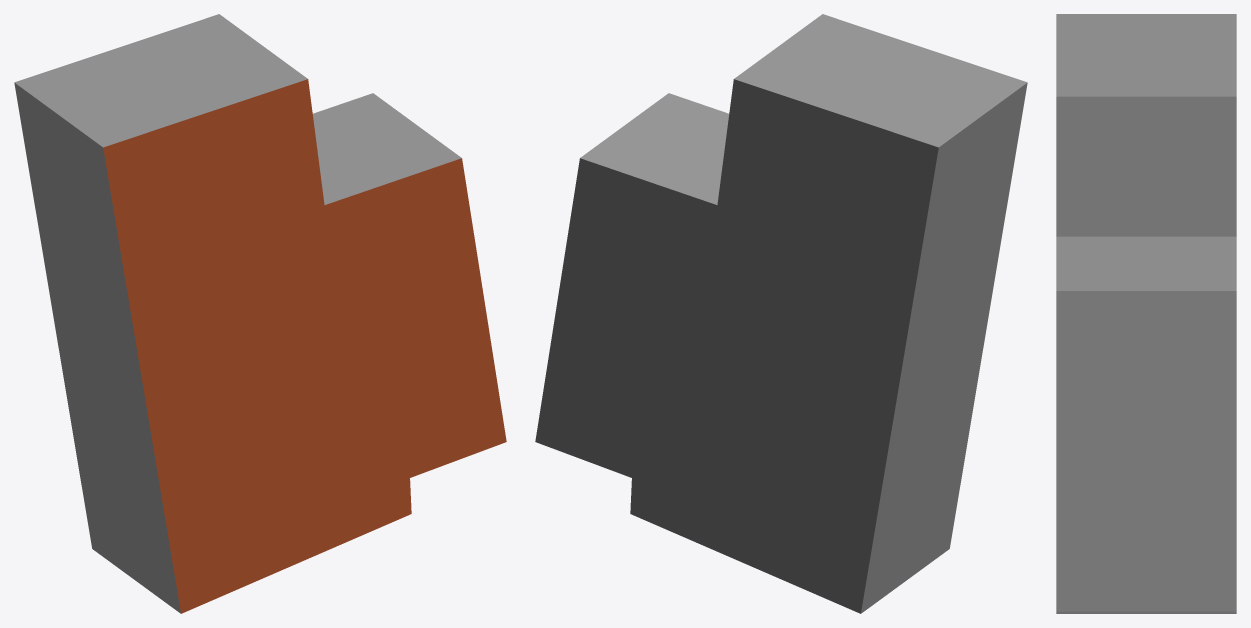
Rendered from construction_0256_assumed_A_Casa_h6m.obj.
The picture shows the model from 3 angles, left to right: view 1: azimuth 30°, elevation 25°; view 2: azimuth 150°, elevation 25°; view 3: azimuth 270°, elevation 25°; orthographic projection.
Parts seen in each view (by area): view 1: construction_0256_assumed_A_Casa; view 2: construction_0256_assumed_A_Casa; view 3: construction_0256_assumed_A_Casa.
Part boxes in pixels (<box>): construction_0256_assumed_A_Casa: <box>14,14,506,613</box>; construction_0256_assumed_A_Casa: <box>535,14,1027,613</box>; construction_0256_assumed_A_Casa: <box>1056,14,1236,613</box>.
Bounding box in the file's own units: 15.73 × 18.76 × 6.
